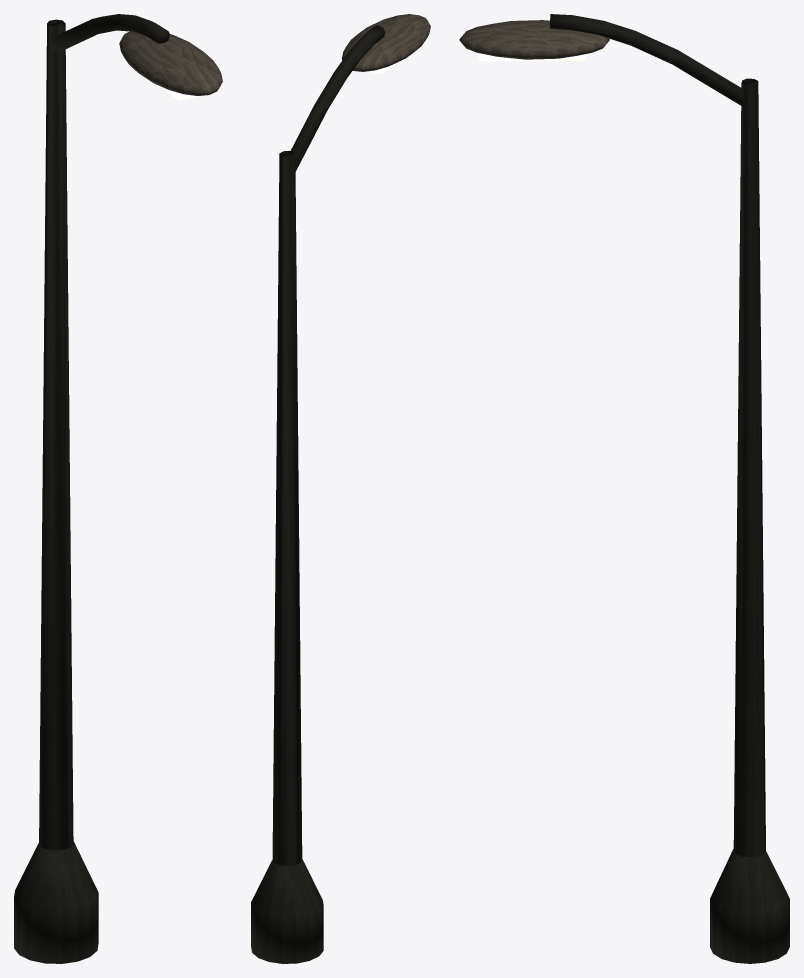
File: den_duong_01_lod1.glb
3 renders of one model, left to right at view 1: azimuth 30°, elevation 25°; view 2: azimuth 150°, elevation 25°; view 3: azimuth 270°, elevation 25°, orthographic. The views are drawn at different scales.
Visible parts, largest first — view 1: den_duong_01.001; view 2: den_duong_01.001; view 3: den_duong_01.001.
Part boxes in pixels (x1=…): den_duong_01.001: x1=14, y1=14, x2=222, y2=963; den_duong_01.001: x1=251, y1=14, x2=430, y2=963; den_duong_01.001: x1=459, y1=14, x2=789, y2=963.
Size of the model in its own units: 0.36 by 4.63 by 1.49.
2 materials, 1 textured.
